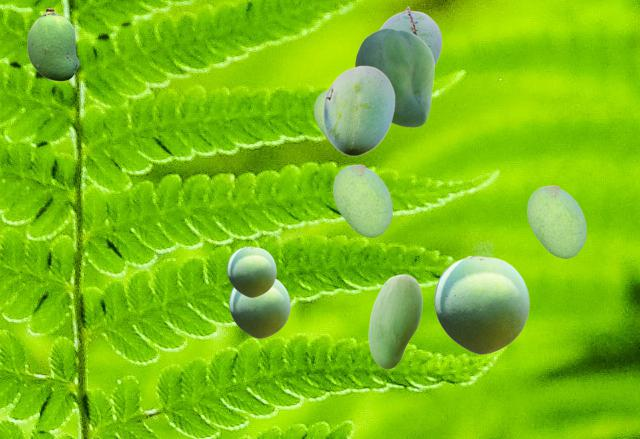green_mango: (434, 255, 528, 353), (355, 28, 433, 126), (322, 65, 394, 155), (368, 274, 421, 368), (333, 164, 391, 236), (527, 185, 585, 257), (379, 6, 441, 69), (27, 8, 78, 80), (229, 278, 289, 337), (227, 246, 275, 296), (314, 90, 330, 143)
